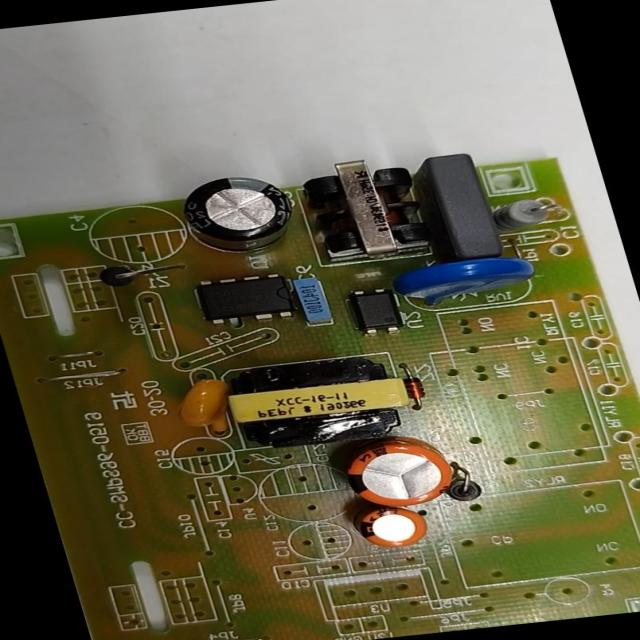Cap1: (337, 433, 460, 511)
Cap2: (351, 504, 432, 551)
Cap3: (175, 172, 302, 256)
MOSFET: (194, 272, 295, 326)
Mov: (396, 253, 540, 305)
Resistor: (492, 195, 561, 233)
Transformer: (214, 352, 419, 452), (297, 157, 428, 258)
